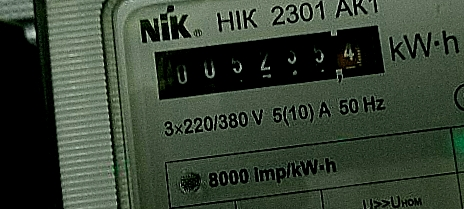0: (172, 59, 191, 87), (200, 53, 217, 80)
2: (254, 45, 272, 71)
3: (282, 39, 299, 65)
4: (339, 35, 357, 63)
5: (309, 36, 327, 65), (227, 48, 245, 76)
screen: (142, 10, 397, 112)
